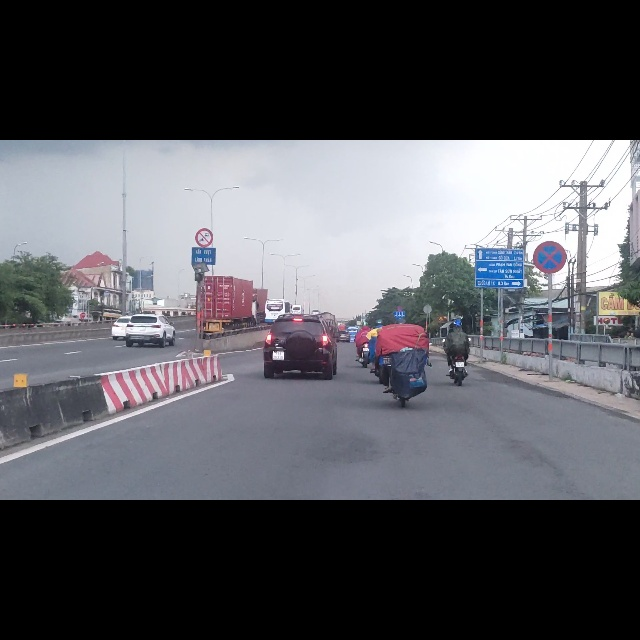bien_chi_dan: (532, 178, 567, 239), (195, 157, 213, 190), (81, 306, 86, 315)
